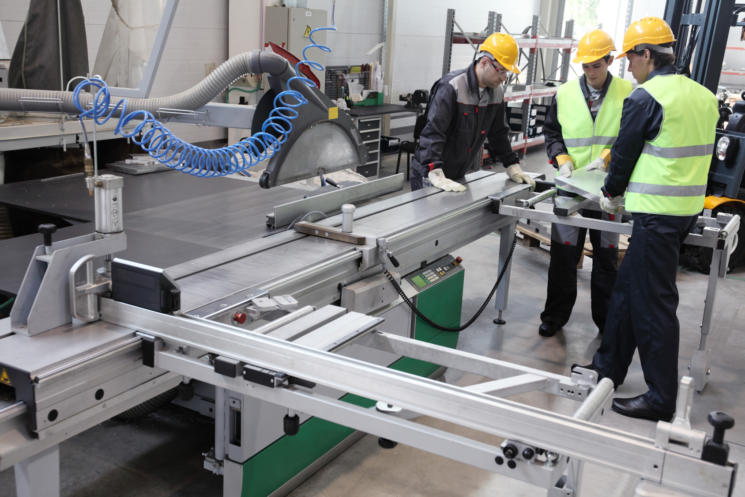person: (572, 11, 720, 425), (542, 30, 634, 343), (408, 30, 534, 193)
